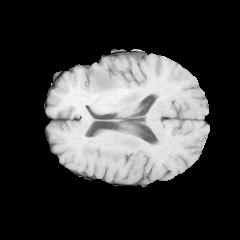glioma: (92, 72, 118, 94)
